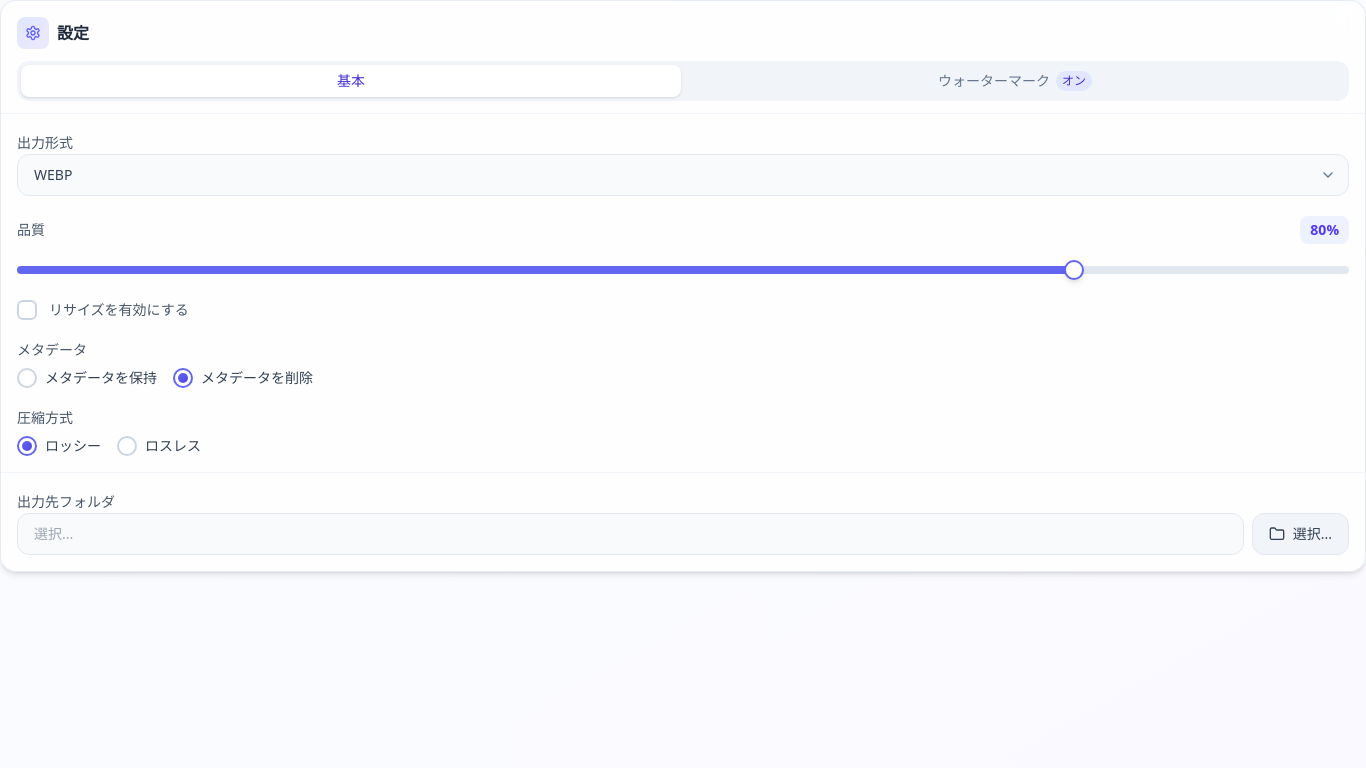
Test: SettingsPanel › ウォーターマーク › 敷き詰め › 日本語でもラベルが出る
This screenshot has width=1366, height=768.
Click the tab "ウォーターマーク オン".
click(1015, 81)  # box [685, 65, 1345, 97]
(page scrolled)
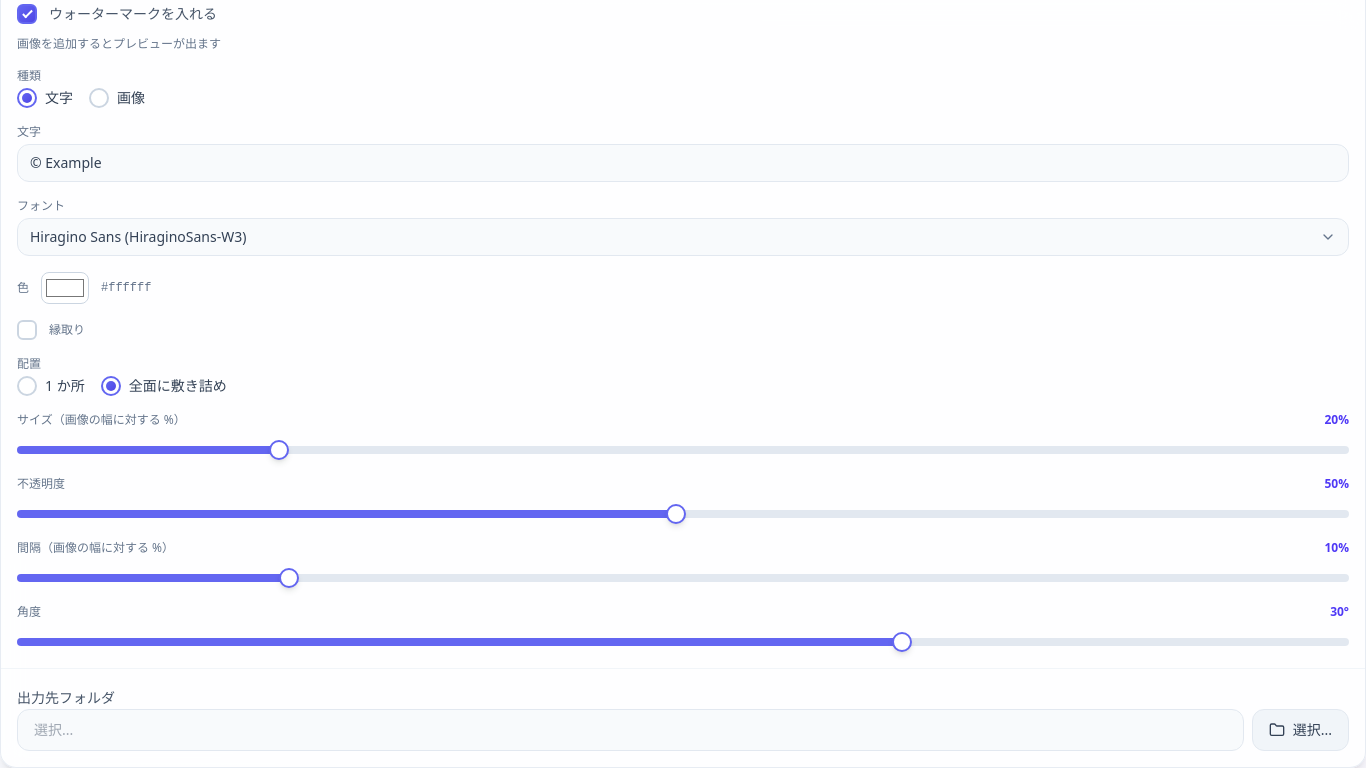
Expected: the radio button labelled "全面に敷き詰め" is checked, [101, 376, 121, 396]
Expected: the radio button labelled "1 か所" is not checked, [17, 376, 37, 396]
Expected: the slider labelled "間隔（画像の幅に対する %）" is shown, [17, 574, 1349, 582]
